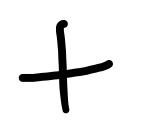plus: (18, 20, 113, 114)
